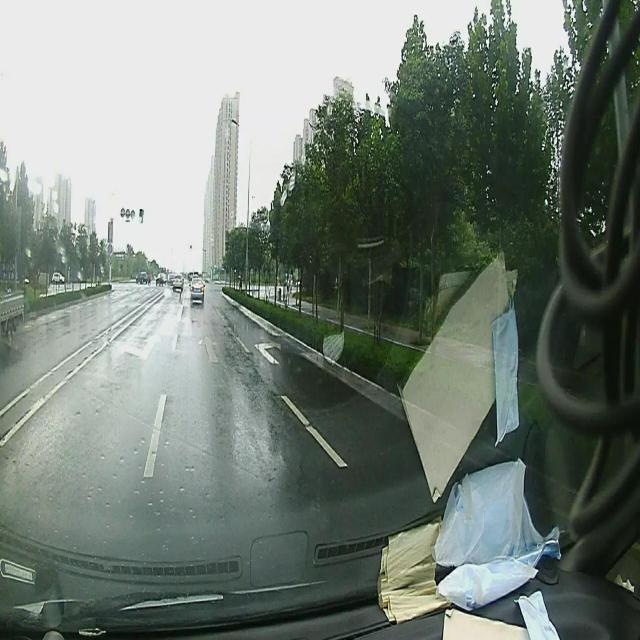car: (188, 274, 204, 300), (174, 271, 184, 291), (136, 274, 147, 282)
